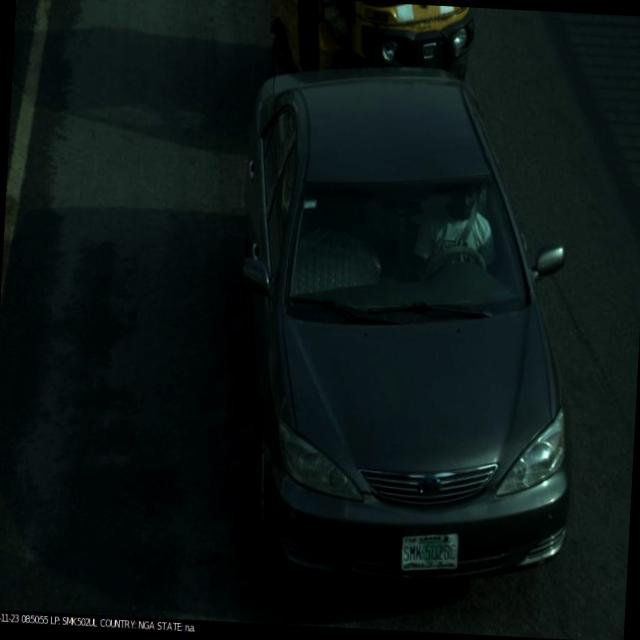person_with_seatbelt: (396, 194, 504, 293)
